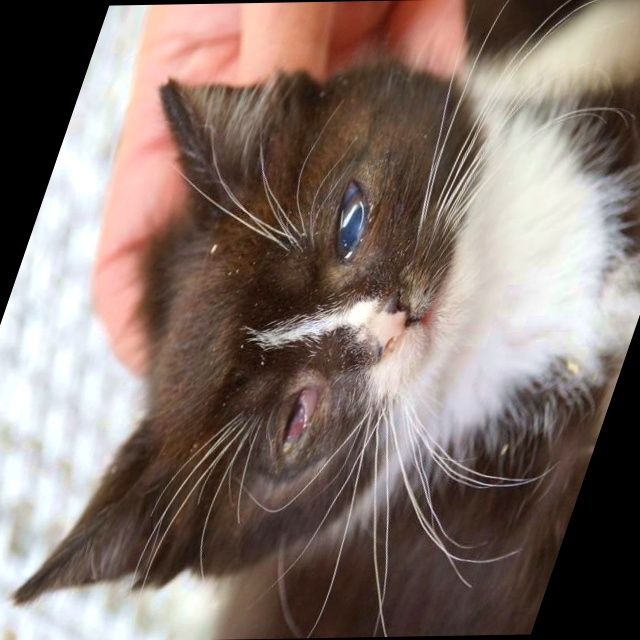eye_infection: (260, 384, 335, 463)
